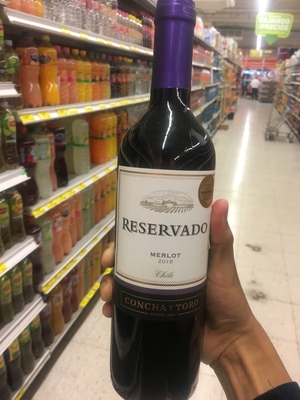reservado merlot: (101, 2, 231, 400)
